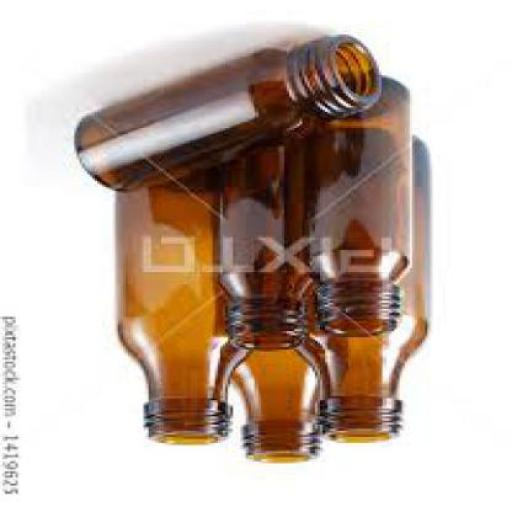glass: (74, 39, 386, 195), (300, 147, 435, 443), (116, 171, 254, 447), (312, 81, 414, 337), (215, 134, 315, 353), (236, 344, 322, 466)
